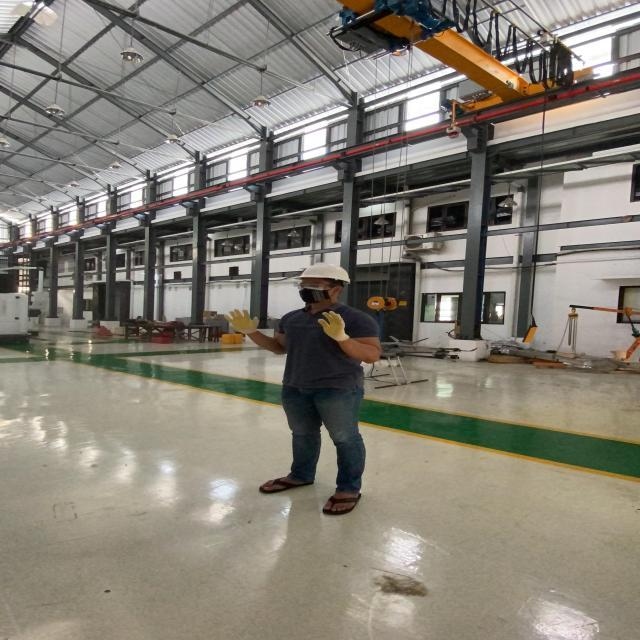glasses: (290, 281, 340, 290)
